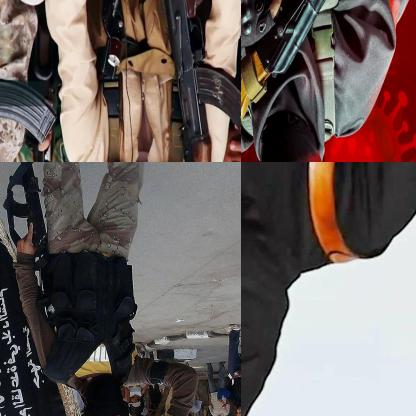rifle: (241, 0, 402, 161), (155, 0, 240, 161), (0, 0, 60, 161), (0, 162, 55, 277)
